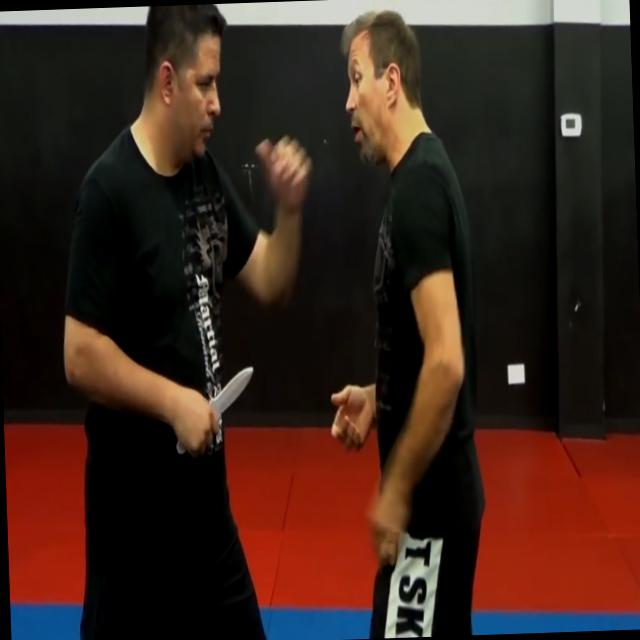knife: (170, 358, 258, 461)
